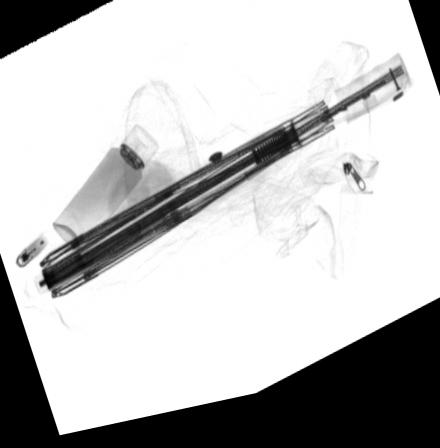Lighter: (13, 234, 48, 268)
Sprayer: (51, 127, 159, 253)
